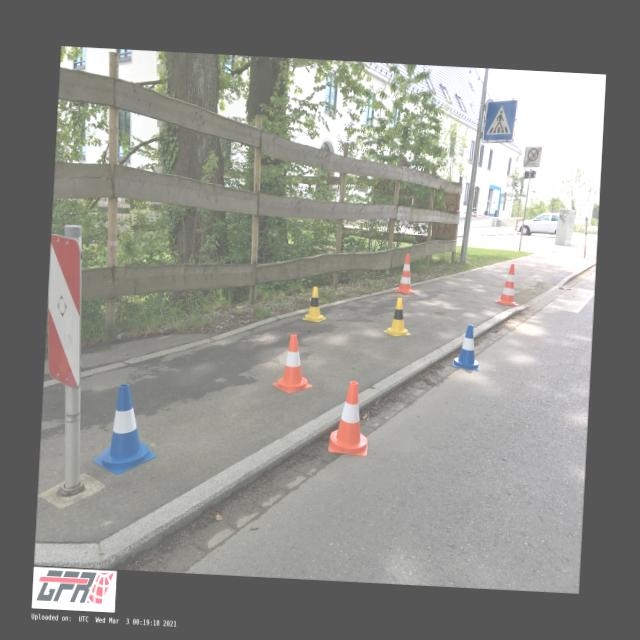blue_cone: (92, 382, 160, 476), (454, 324, 482, 371)
large_orange_cone: (494, 262, 522, 306), (394, 253, 417, 294)
orange_cone: (328, 380, 371, 456), (273, 334, 315, 394)
yellow_cone: (384, 296, 413, 336), (303, 286, 328, 322)
